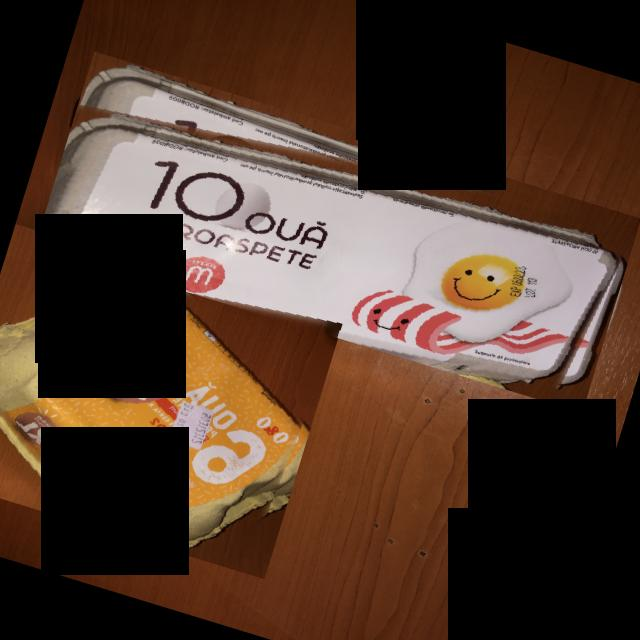eggs: (34, 51, 640, 412), (0, 223, 342, 578)
